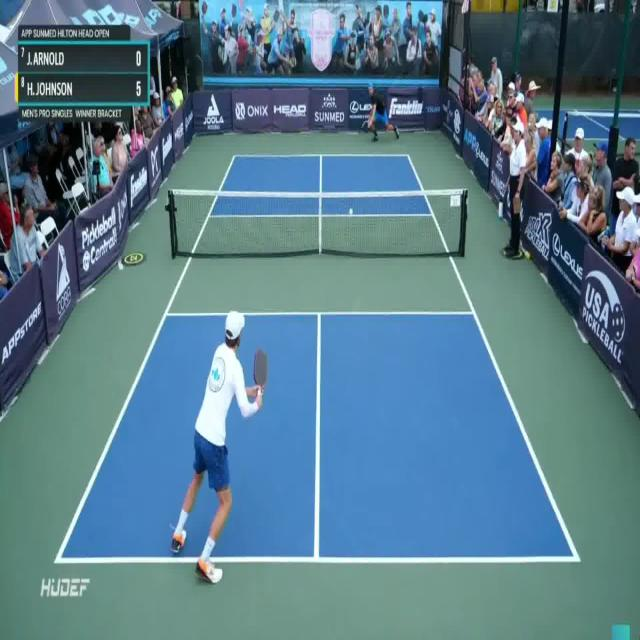ball: (348, 205, 354, 217)
